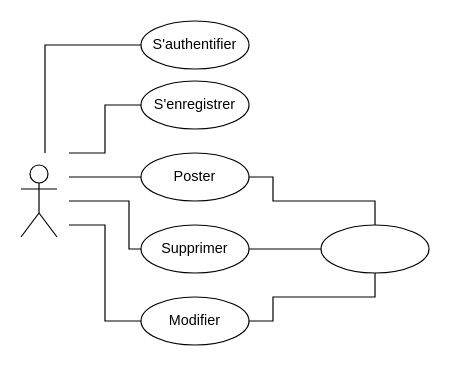
Some shapes in this 450 by 366 pixel diagram are drawn without their labels. Each missing label, with the box of its shape:
Annonces: (320, 224, 429, 273)
User: (20, 164, 57, 237)
